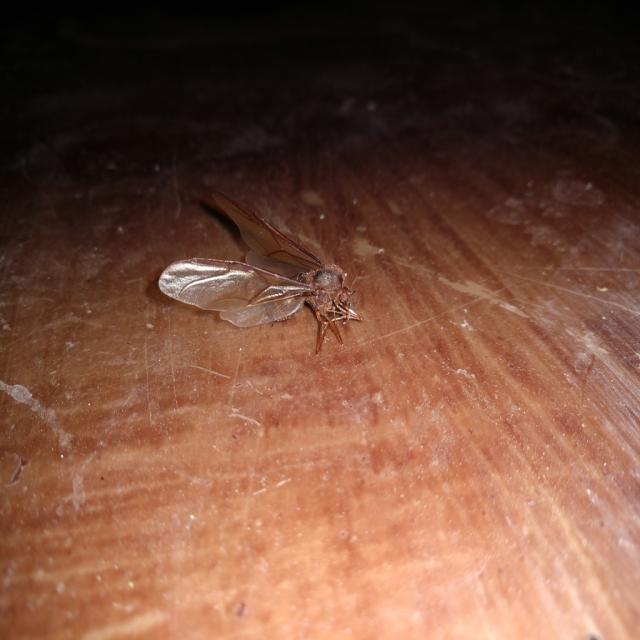Dead-Male-Alate: (158, 188, 372, 356)
